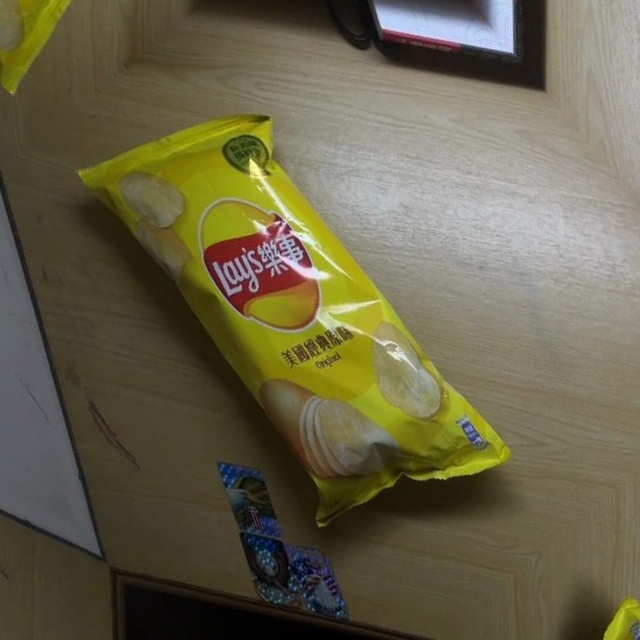Lay-s-original: (44, 53, 537, 580)
